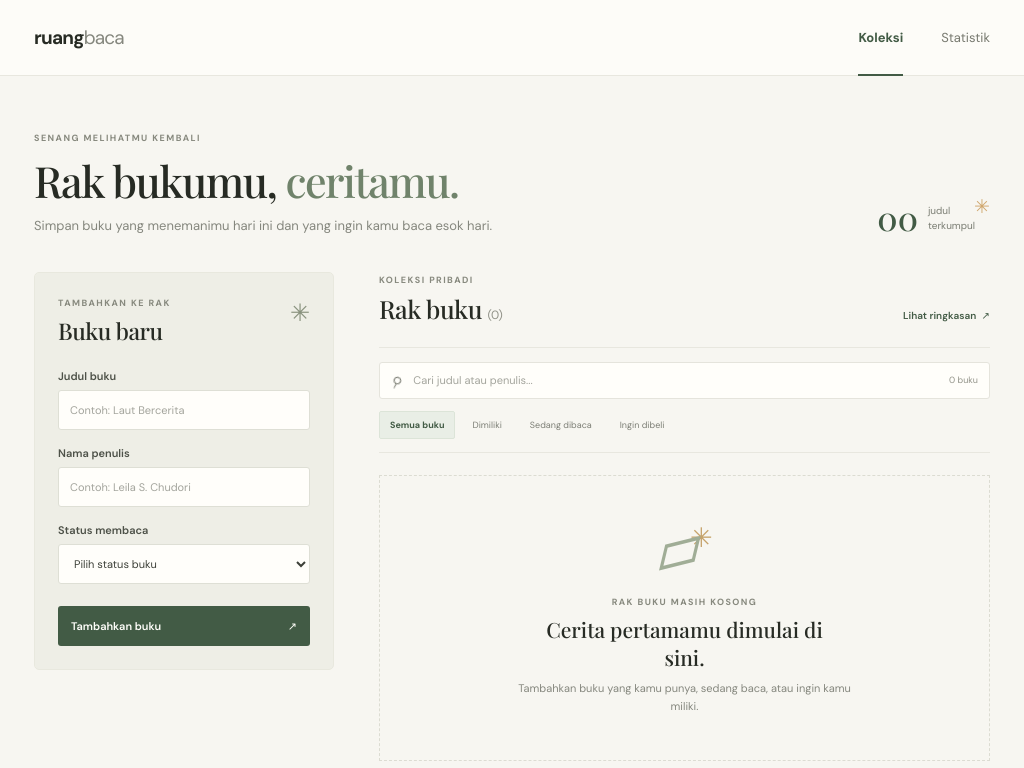
Test: Aplikasi Ruang Baca › menambahkan buku dan menyimpannya ke localStorage
This screenshot has width=1024, height=768.
Type "Laut Bercerita" into the field labelled "Judul buku" at (184, 410), box 58,390 -> 310,430
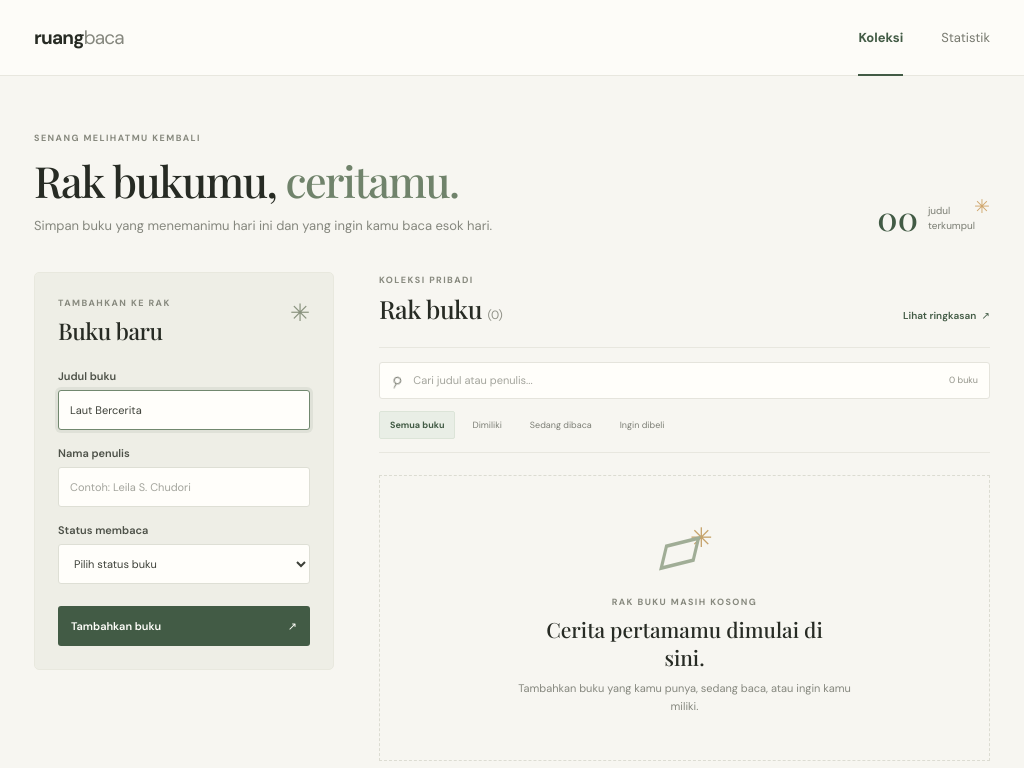
Type "Leila S. Chudori" into the field labelled "Nama penulis" at (184, 487), box 58,467 -> 310,507
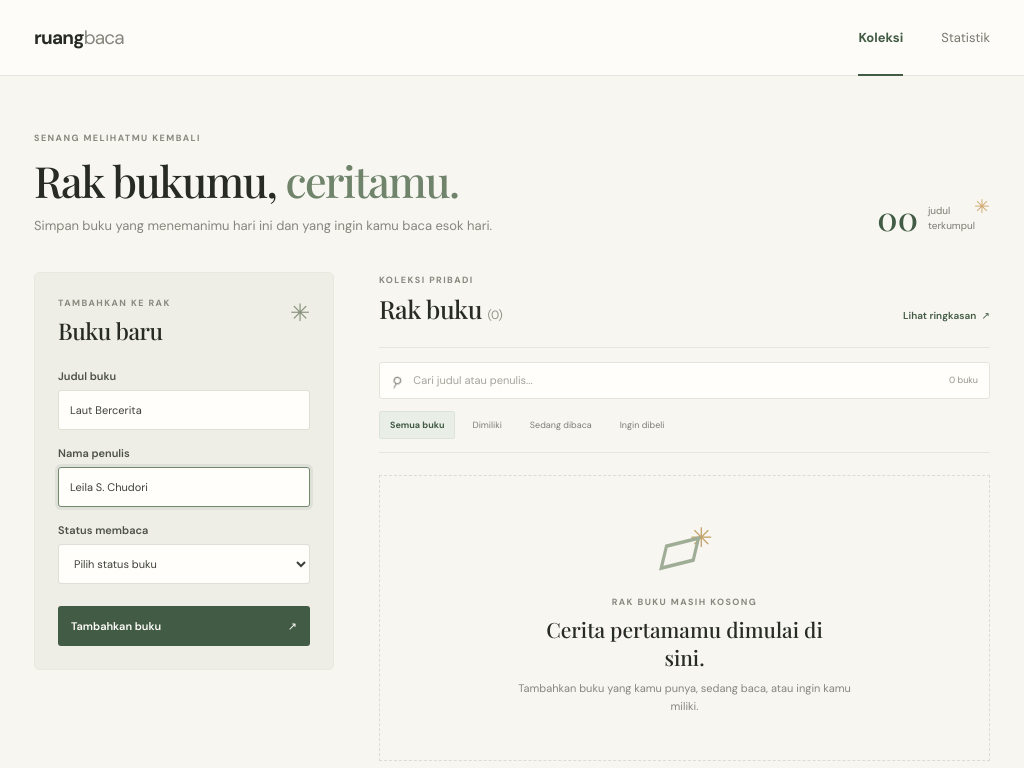
Select "Sedang dibaca" in the dropdown labelled "Status membaca" at (184, 564), box 58,544 -> 310,584
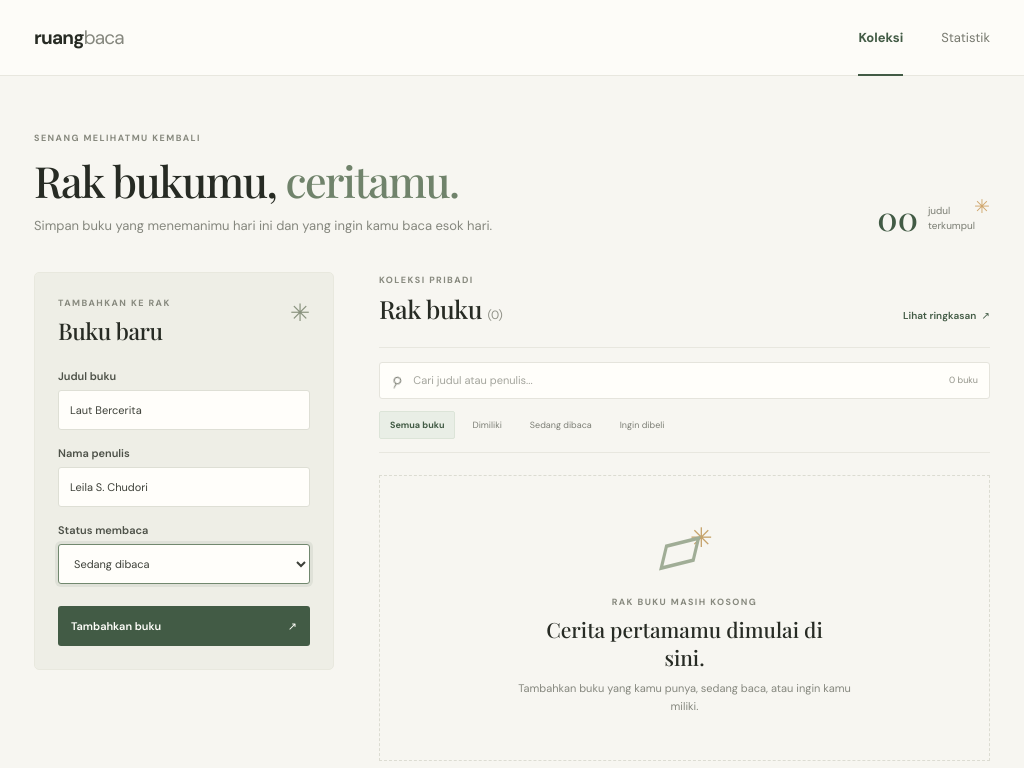
Click the button "Tambahkan buku ↗" at (184, 626), box 58,606 -> 310,646
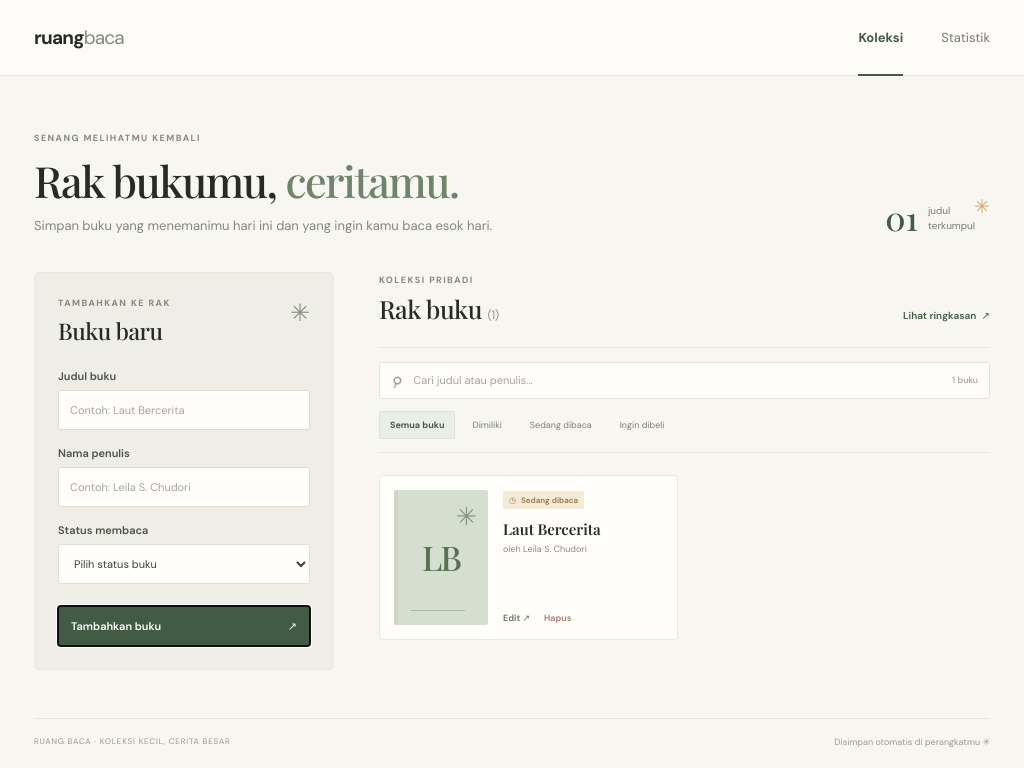
Now the heading "Laut Bercerita" is shown, box 503,520 -> 601,539
